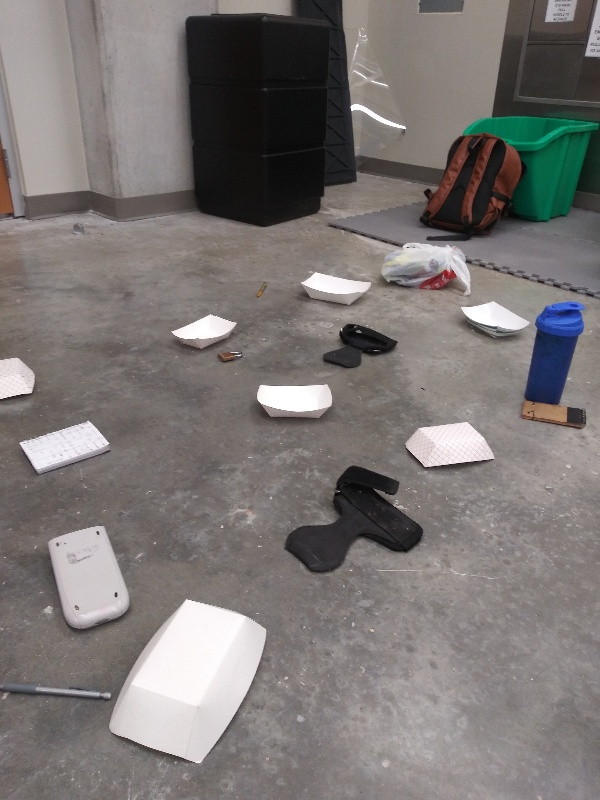plate: (105, 596, 272, 771), (403, 417, 502, 476), (253, 378, 339, 424), (457, 298, 534, 344), (295, 268, 375, 311), (167, 311, 243, 354), (1, 353, 41, 407)
